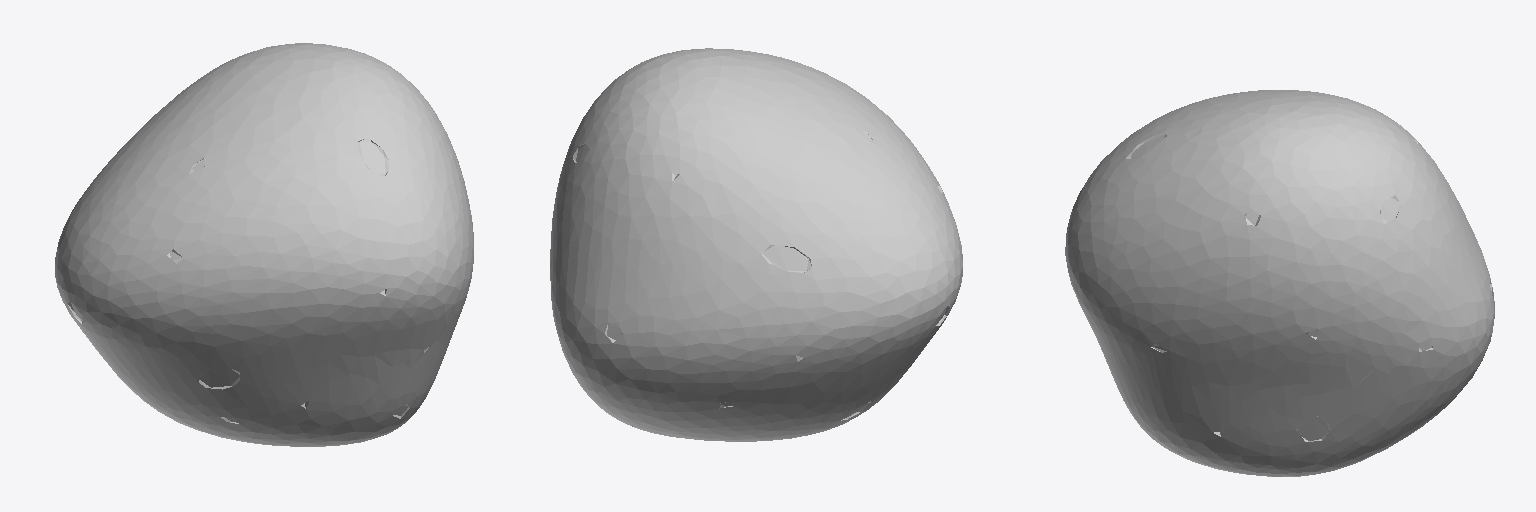
Rendered from asteroid.obj.
The picture shows the model from 3 angles: view 1: azimuth 30°, elevation 25°; view 2: azimuth 150°, elevation 25°; view 3: azimuth 270°, elevation 25°; orthographic projection.
Bounding box in the file's own units: 130 × 120 × 132.